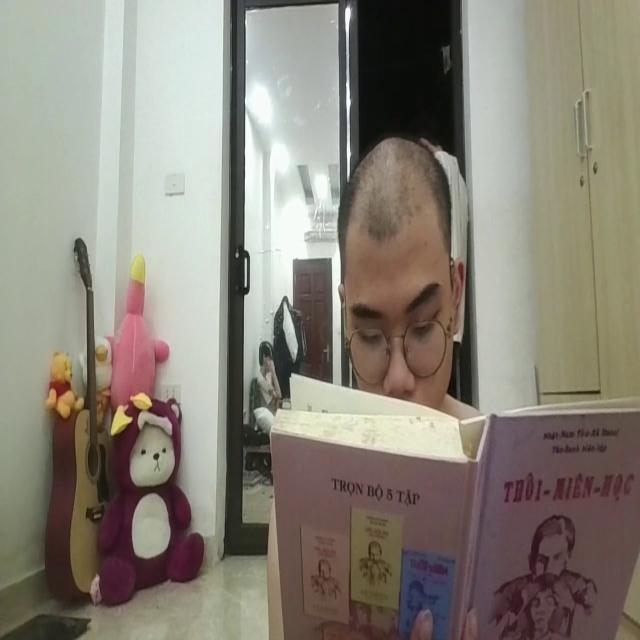book: (268, 361, 640, 640)
extra_person: (424, 121, 472, 356), (258, 327, 280, 422)
student: (333, 130, 466, 412)
